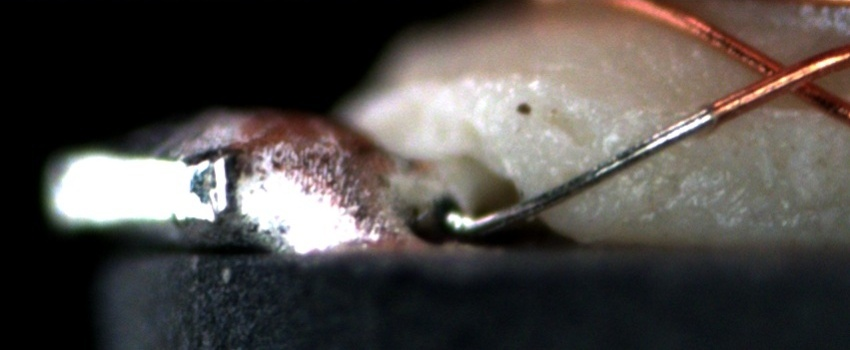CL: (741, 44, 838, 107)
DL: (706, 91, 849, 134)
TS: (448, 106, 716, 235)
